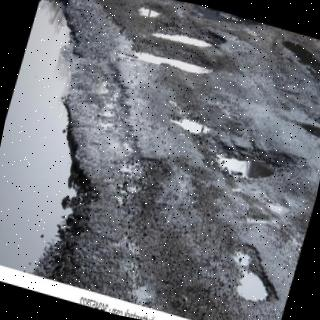pothole: (0, 0, 90, 280), (275, 37, 320, 139), (216, 144, 293, 179), (235, 243, 278, 301), (134, 52, 210, 75), (194, 4, 262, 25), (152, 33, 211, 47), (170, 118, 214, 136), (136, 5, 159, 20)
